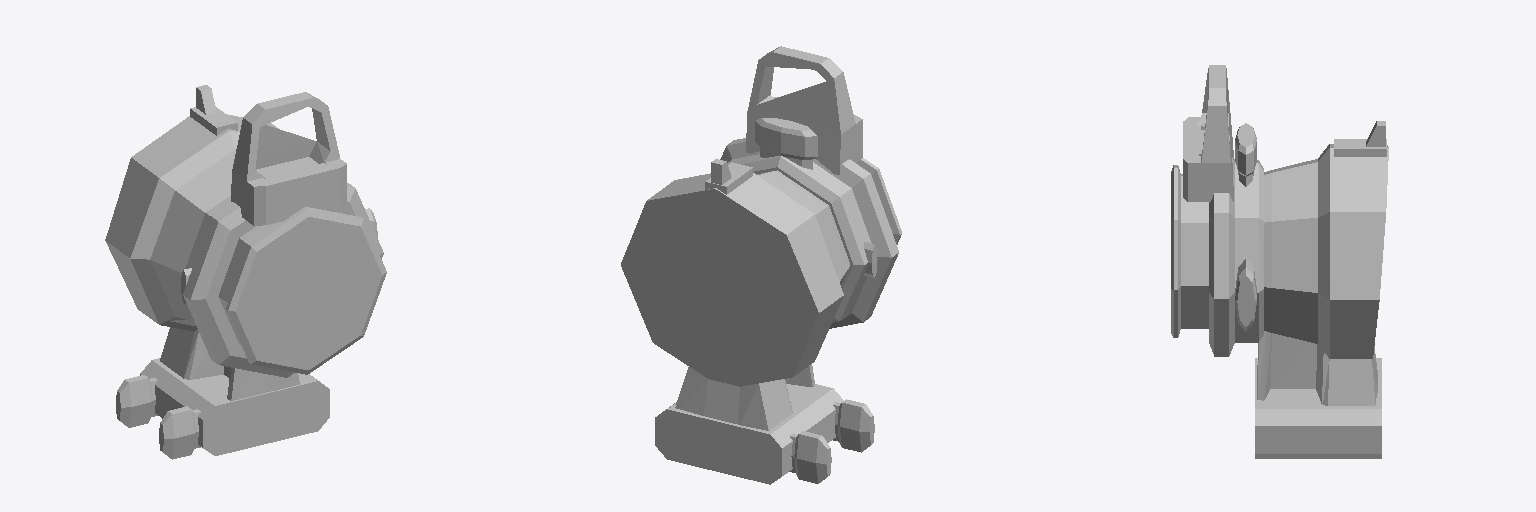
File: ADS.obj
3 renders of one model, left to right at view 1: azimuth 30°, elevation 25°; view 2: azimuth 150°, elevation 25°; view 3: azimuth 270°, elevation 25°, orthographic.
Parts seen in each view (by area): view 1: Cylinder.021; view 2: Cylinder.021; view 3: Cylinder.021.
Boxes of the visible parts, x1=… form: Cylinder.021: x1=105, y1=85, x2=386, y2=459; Cylinder.021: x1=621, y1=46, x2=901, y2=484; Cylinder.021: x1=1171, y1=65, x2=1388, y2=458.
Size of the model in its own units: 0.0627 by 0.106 by 0.0587.